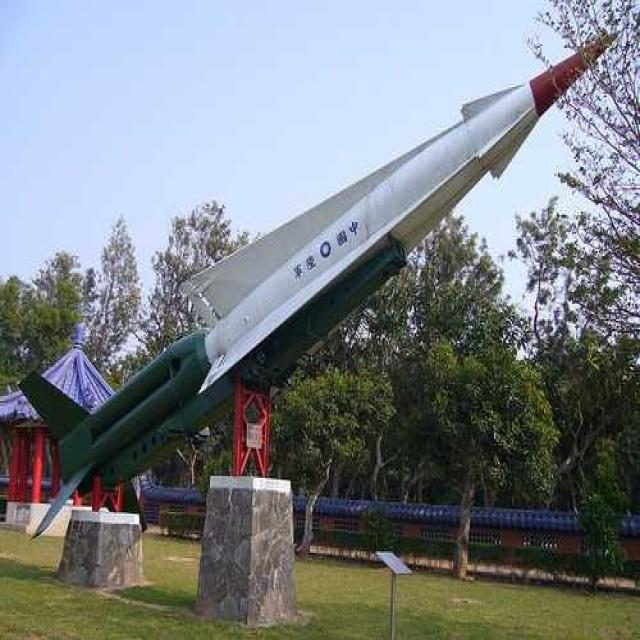missile: (19, 29, 620, 537)
